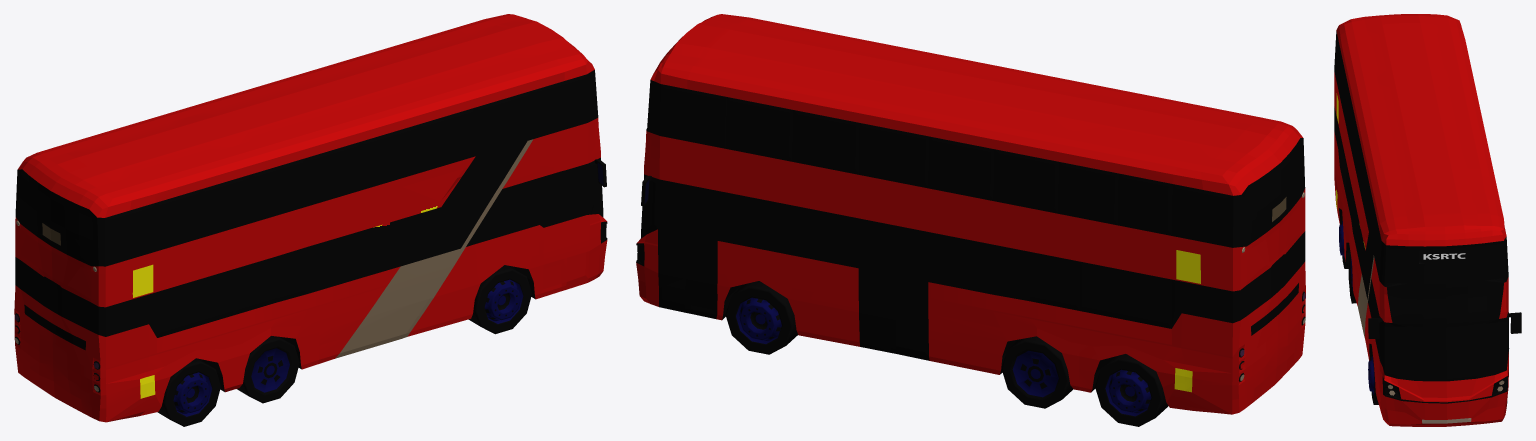
The model's file is SM_Bus.fbx.
3 views of the same model, side by side, from view 1: azimuth 30°, elevation 25°; view 2: azimuth 150°, elevation 25°; view 3: azimuth 270°, elevation 25° (orthographic). The views are drawn at different scales.
Visible parts, largest first — view 1: BusBody, WheelBack, WheelRightFront; view 2: BusBody, WheelBack, WheelLeftFront; view 3: BusBody, Quad, Mirror, WheelBack, WheelRightFront.
Boxes of the visible parts, <box> form: BusBody: <box>14,14,607,422</box>; WheelBack: <box>157,336,299,426</box>; WheelRightFront: <box>468,265,532,334</box>; BusBody: <box>636,14,1305,414</box>; WheelBack: <box>1001,336,1168,426</box>; WheelLeftFront: <box>725,281,798,354</box>; BusBody: <box>1334,14,1509,426</box>; Quad: <box>1419,249,1469,263</box>; Mirror: <box>1368,312,1521,338</box>; WheelBack: <box>1339,212,1356,303</box>; WheelRightFront: <box>1368,347,1378,404</box>.
Size of the model in its own units: 224 by 96.72 by 77.3.
Materials: 2 (2 with a texture image).
